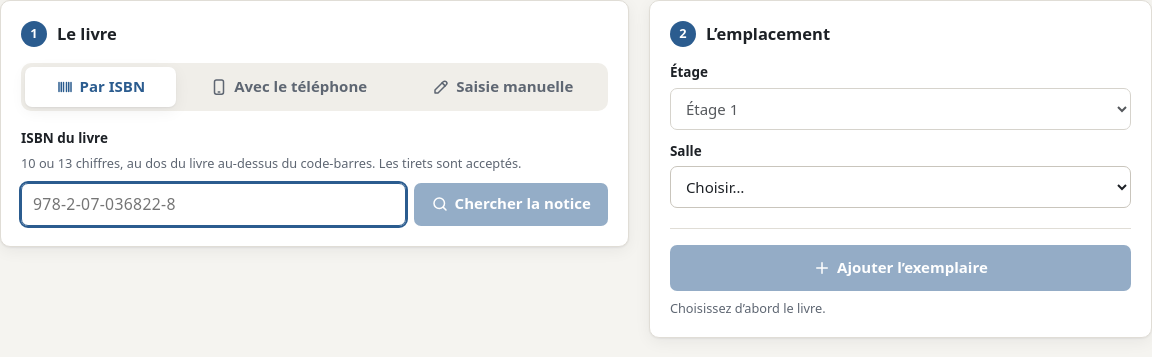
Test: EcranAjout › par ISBN › refuse un ISBN de forme invalide sans interroger le serveur
Type "12345" into the field labelled "ISBN du livre" at (213, 204), box [21, 183, 406, 226]
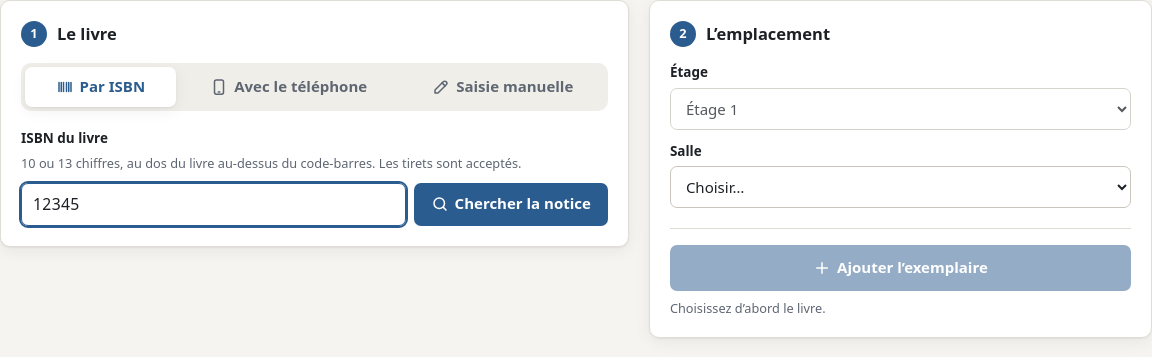
Click the button "Chercher la notice" at (511, 204), box [414, 183, 608, 226]
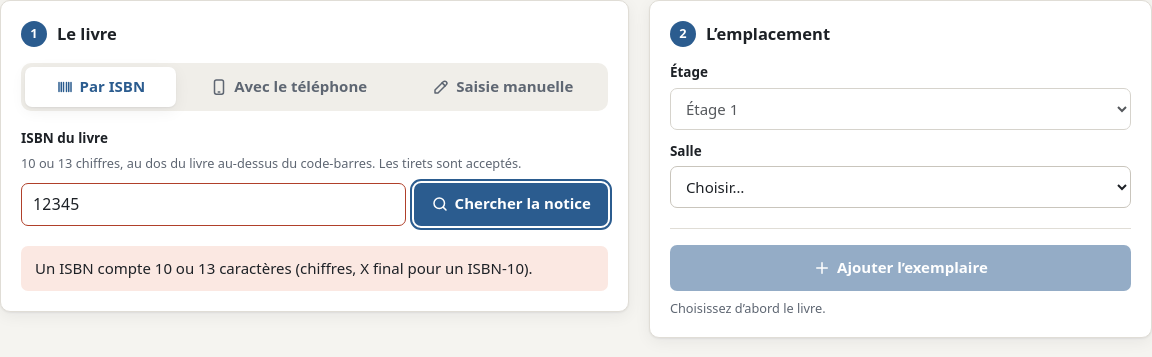
expect the message shows "10 ou 13 caractères": met, box [35, 258, 532, 278]
